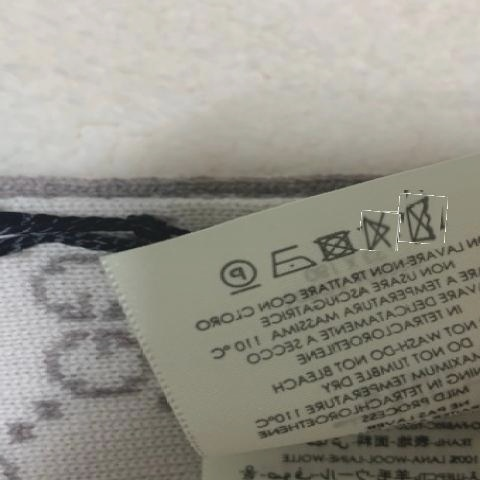DN_bleach: (360, 209, 393, 254)
DN_tumble_dry: (313, 228, 356, 264)
DN_wash: (403, 194, 443, 246)
dry_clean_any_solvent_except_trichloroethylene: (218, 255, 262, 295)
iron_low: (263, 242, 313, 278)
